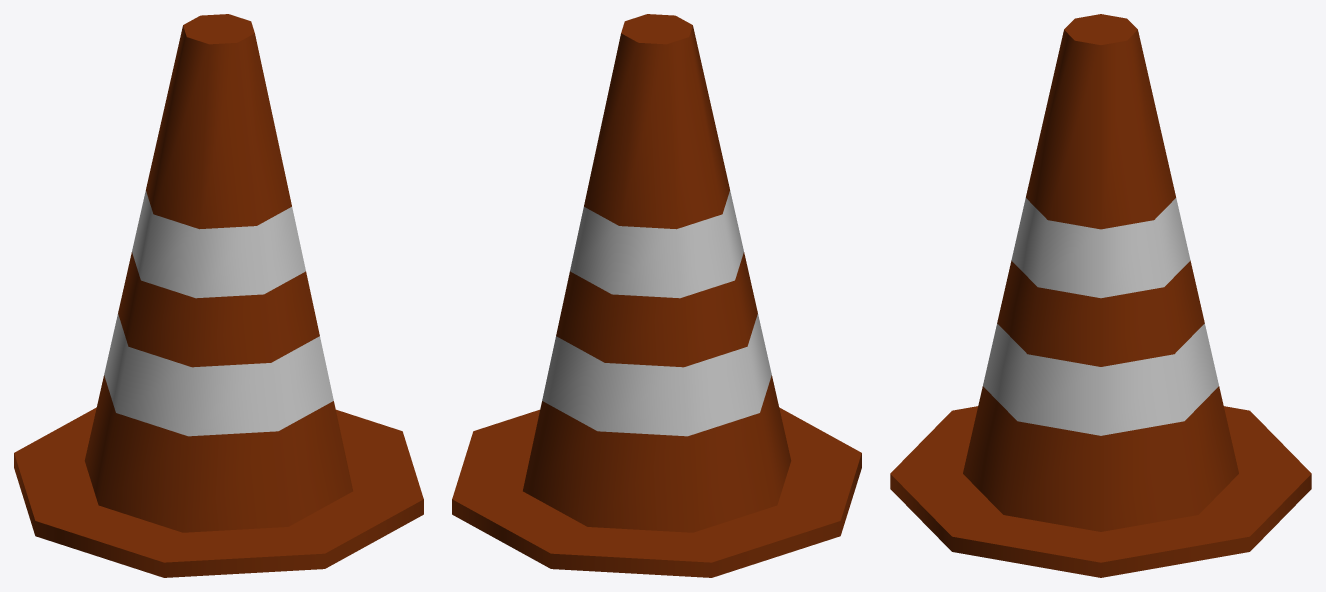
The model's file is Props7.fbx.
3 renders of one model, left to right at view 1: azimuth 30°, elevation 25°; view 2: azimuth 150°, elevation 25°; view 3: azimuth 270°, elevation 25°, orthographic.
Parts seen in each view (by area): view 1: Props7; view 2: Props7; view 3: Props7.
Boxes of the visible parts, x1,y1,x2,y2 form: Props7: [14, 14, 423, 577]; Props7: [452, 14, 861, 577]; Props7: [890, 14, 1311, 577].
Size of the model in its own units: 1.37 by 1.65 by 1.37.
